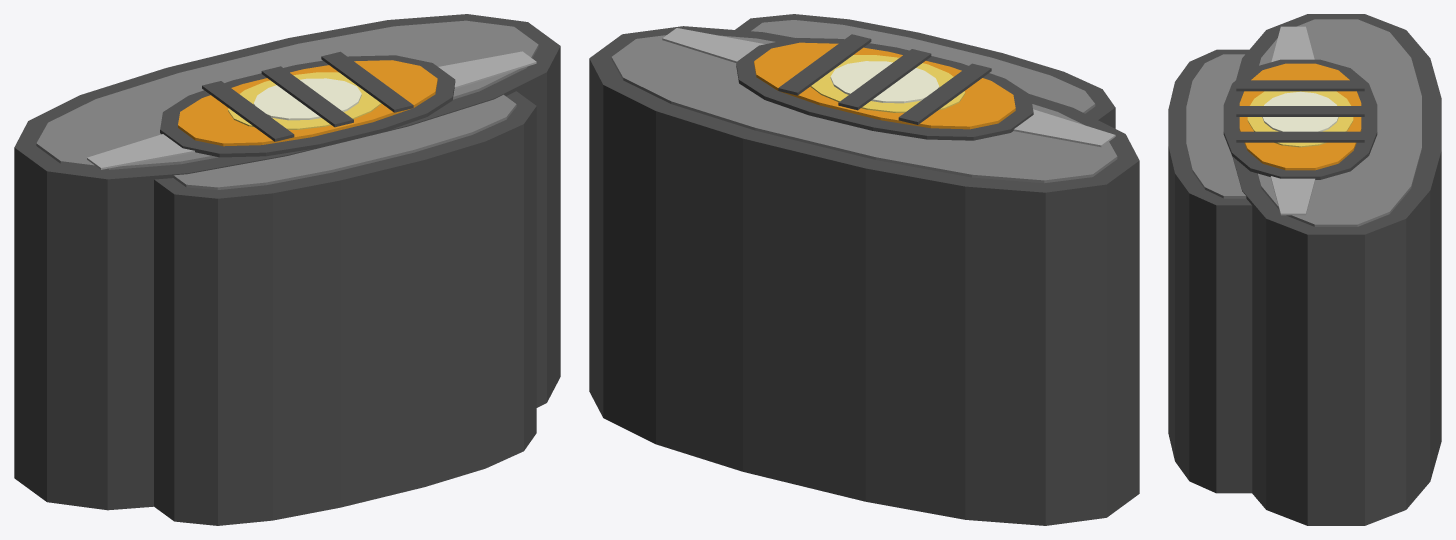
File: bag_fornalha.fbx
3 views of the same model, side by side, from view 1: azimuth 30°, elevation 25°; view 2: azimuth 150°, elevation 25°; view 3: azimuth 270°, elevation 25° (orthographic). The views are drawn at different scales.
Visible parts, largest first — view 1: bag_fornalha_mochila, bag_fornalha_mochila_neon; view 2: bag_fornalha_mochila, bag_fornalha_mochila_neon; view 3: bag_fornalha_mochila, bag_fornalha_mochila_neon.
Part boxes in pixels (left/top/right/bottom): bag_fornalha_mochila: left=14, top=14, right=560, bottom=525; bag_fornalha_mochila_neon: left=178, top=60, right=437, bottom=146; bag_fornalha_mochila: left=589, top=14, right=1139, bottom=525; bag_fornalha_mochila_neon: left=754, top=42, right=1015, bottom=129; bag_fornalha_mochila: left=1168, top=14, right=1441, bottom=525; bag_fornalha_mochila_neon: left=1239, top=63, right=1361, bottom=170.
Size of the model in its own units: 2.92 by 1.89 by 1.53.
Materials: 1 (1 with a texture image).
